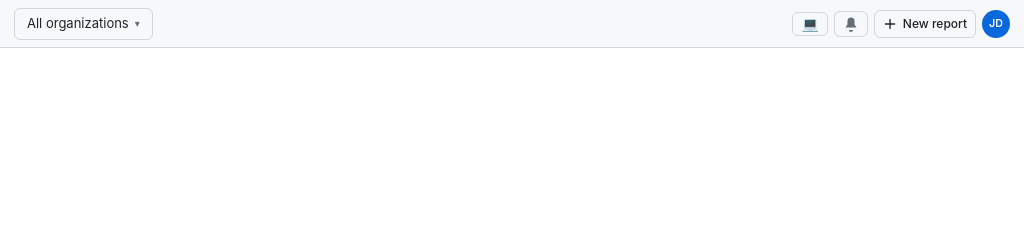
it: TopBar › renders dropdown for multiple orgs with all options
Click the button with aria-label "Select organization" at (83, 24), box 14,8 -> 153,40
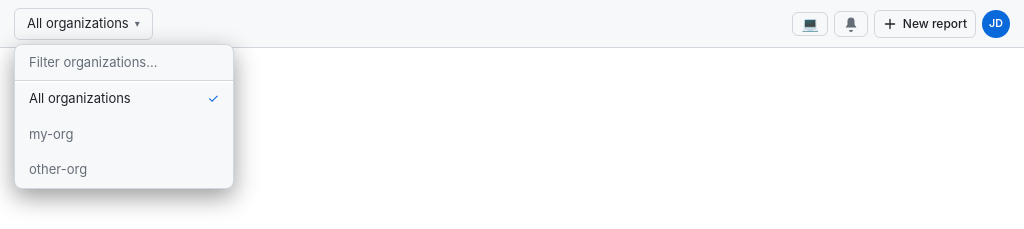
Expected: the number of options is 3, 15,81 -> 233,116; 15,116 -> 233,152; 15,152 -> 233,188
Expected: the option "All organizations ✓" is shown, 15,81 -> 233,116
Expected: the option "my-org" is shown, 15,116 -> 233,152
